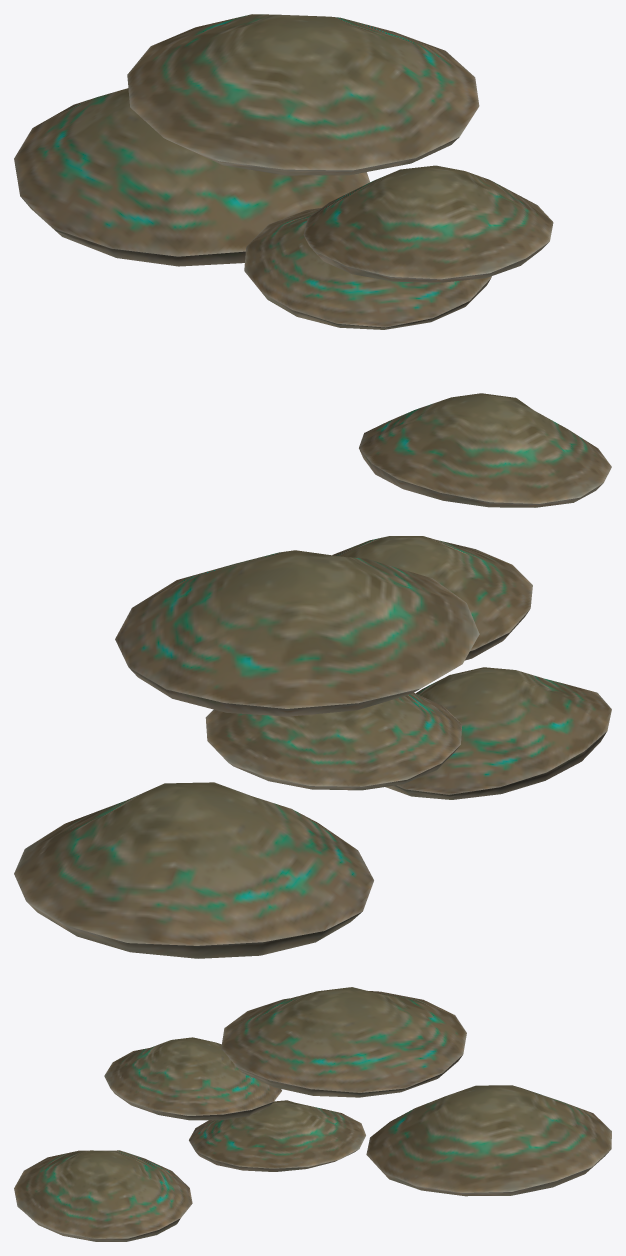
Rendered from Mushroom_04_Group_02.fbx.
The picture shows the model from 3 angles, top to bottom: view 1: azimuth 30°, elevation 25°; view 2: azimuth 150°, elevation 25°; view 3: azimuth 270°, elevation 25°; orthographic projection. The views are drawn at different scales.
Parts seen in each view (by area): view 1: Mushroom_04_Group_02_LOD0; view 2: Mushroom_04_Group_02_LOD0; view 3: Mushroom_04_Group_02_LOD0.
Part boxes in pixels (x1,y1,x2,y2): Mushroom_04_Group_02_LOD0: [14, 14, 611, 507]; Mushroom_04_Group_02_LOD0: [14, 536, 611, 958]; Mushroom_04_Group_02_LOD0: [14, 987, 611, 1241].
Size of what is drawn, in the model's own units: 0.4158 by 0.4089 by 1.04.
